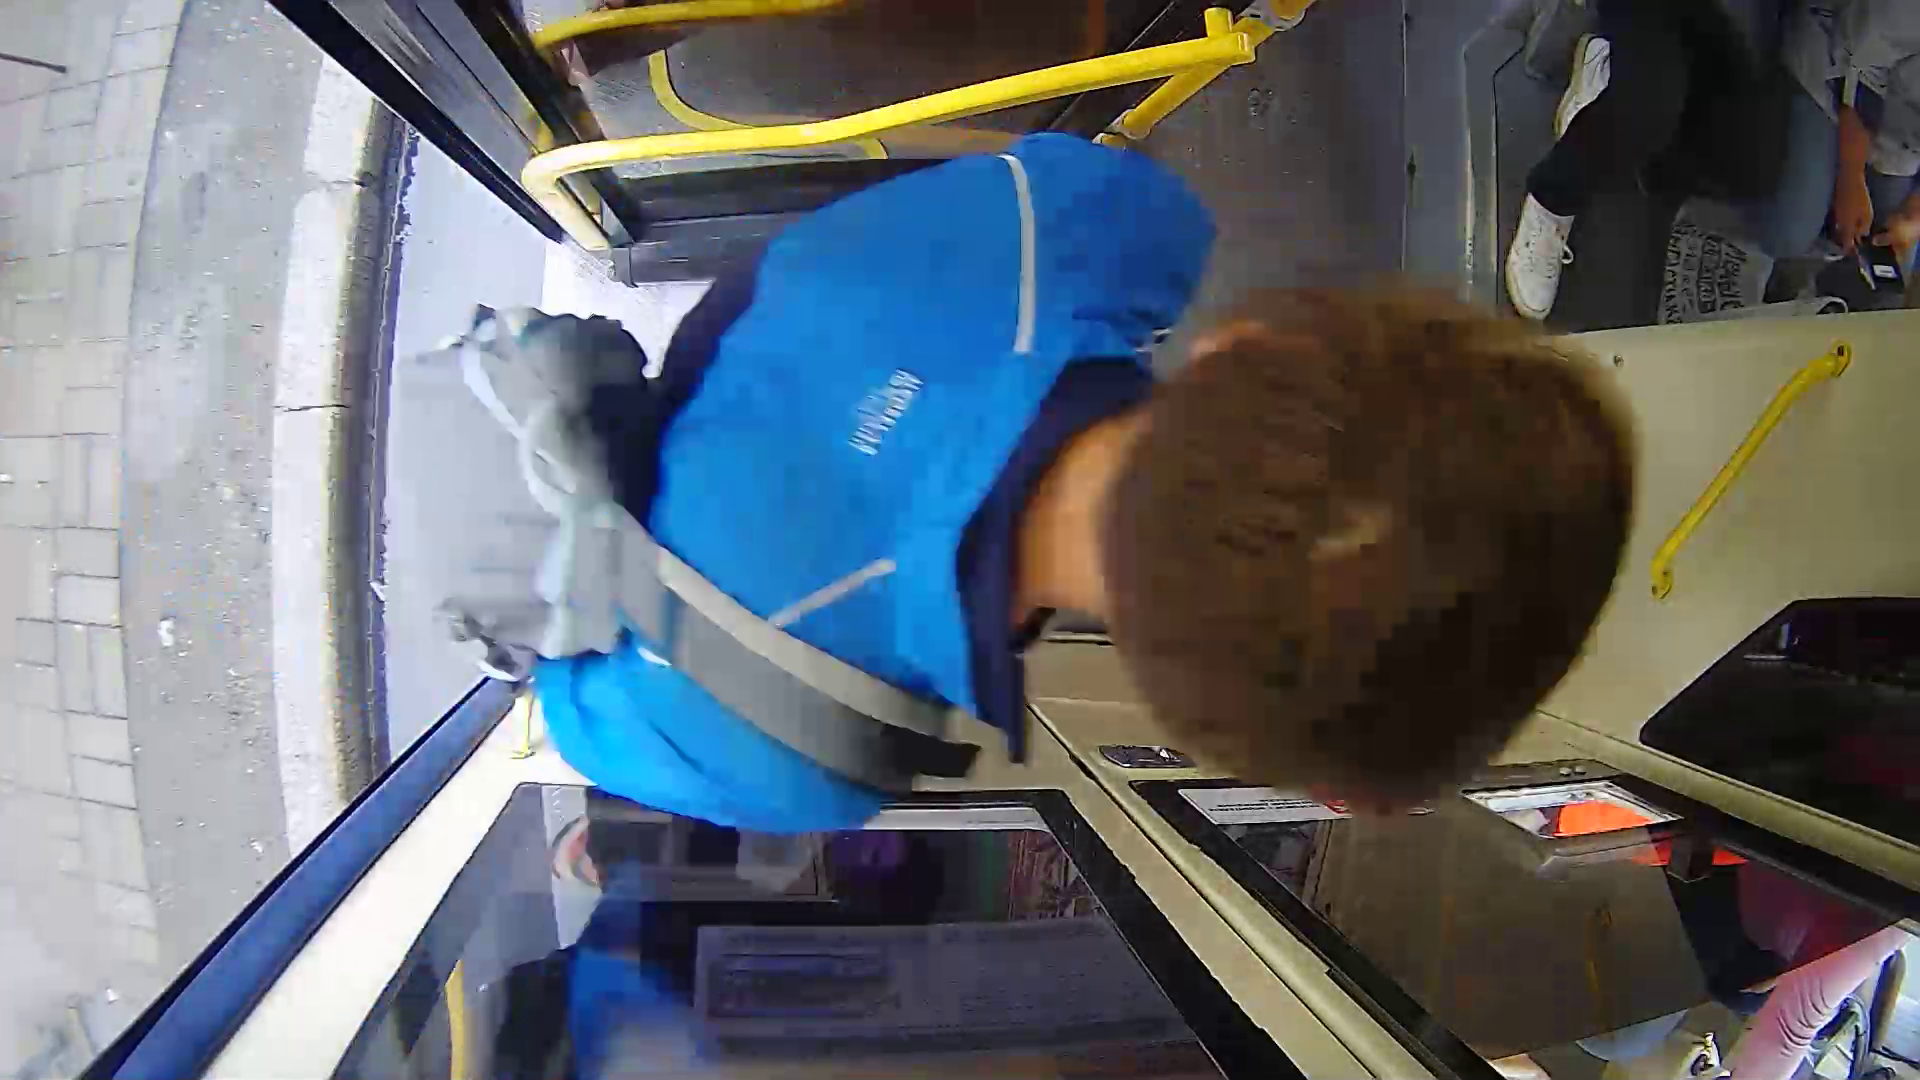person: (530, 182, 1650, 859)
